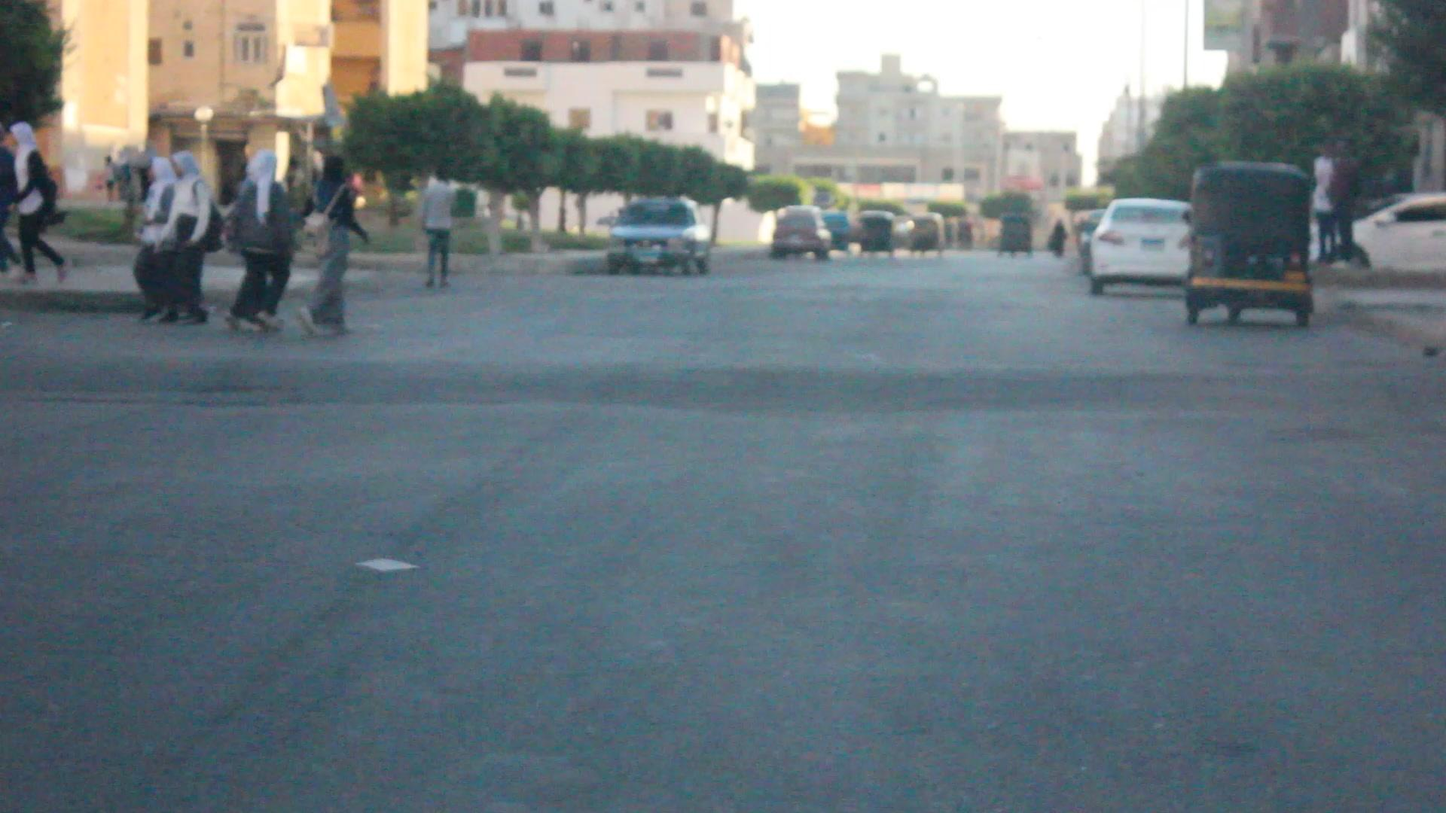Bump: (0, 335, 1446, 433)
